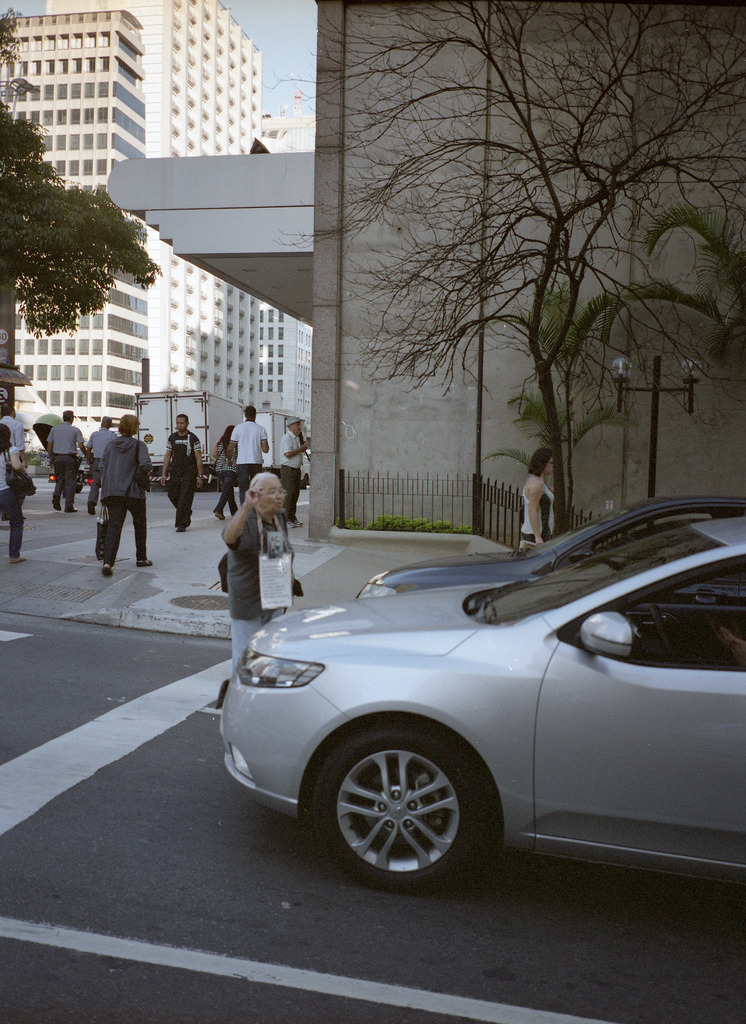Car: (214, 511, 745, 896), (352, 495, 745, 599)
